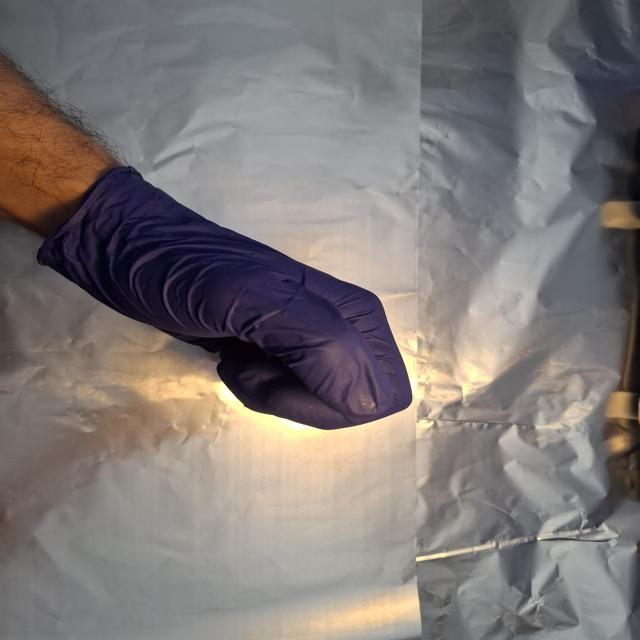glove_on: (54, 162, 417, 432)
